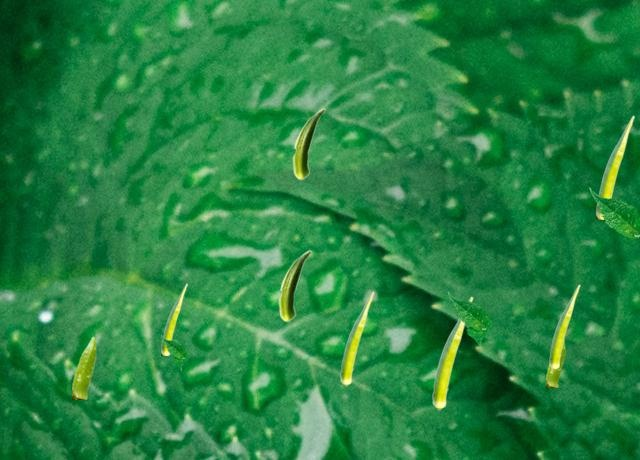okra: (432, 296, 472, 409), (596, 115, 633, 218), (340, 291, 373, 385), (549, 284, 579, 369), (292, 108, 324, 179), (278, 250, 310, 321), (161, 283, 186, 354), (72, 336, 95, 398), (546, 342, 564, 386)
